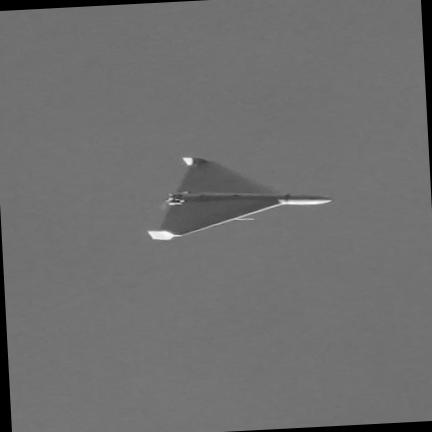Shahed: (148, 157, 331, 240)
